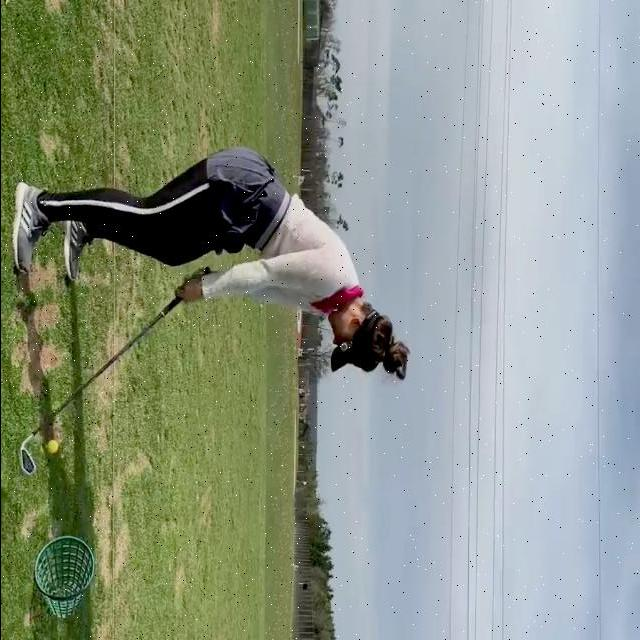golf ball: (46, 440, 58, 454)
golf club-handle: (19, 264, 211, 476)
golf club-head: (18, 447, 35, 476)
